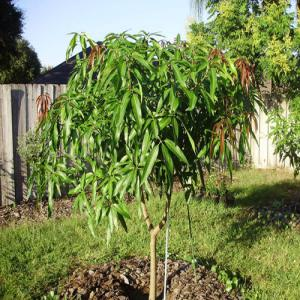Tree: (26, 26, 260, 296)
